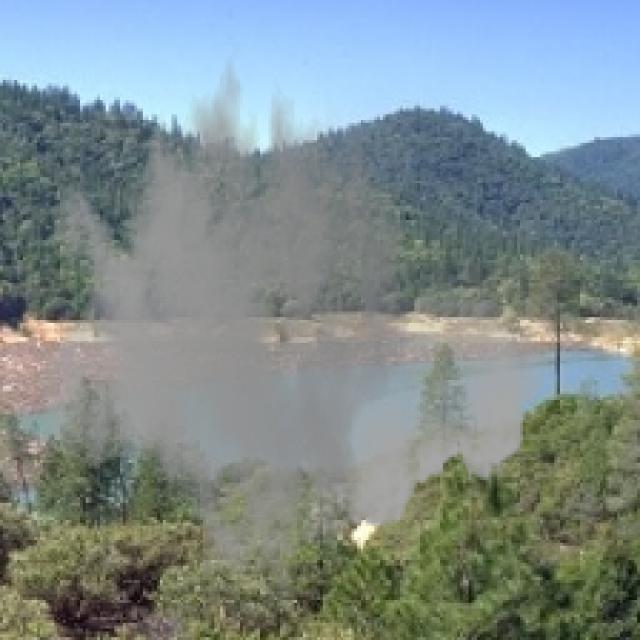Smoke: (37, 31, 552, 600)
